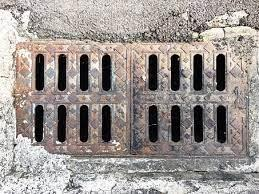open drainage-not overflowing-: (13, 39, 248, 164)
